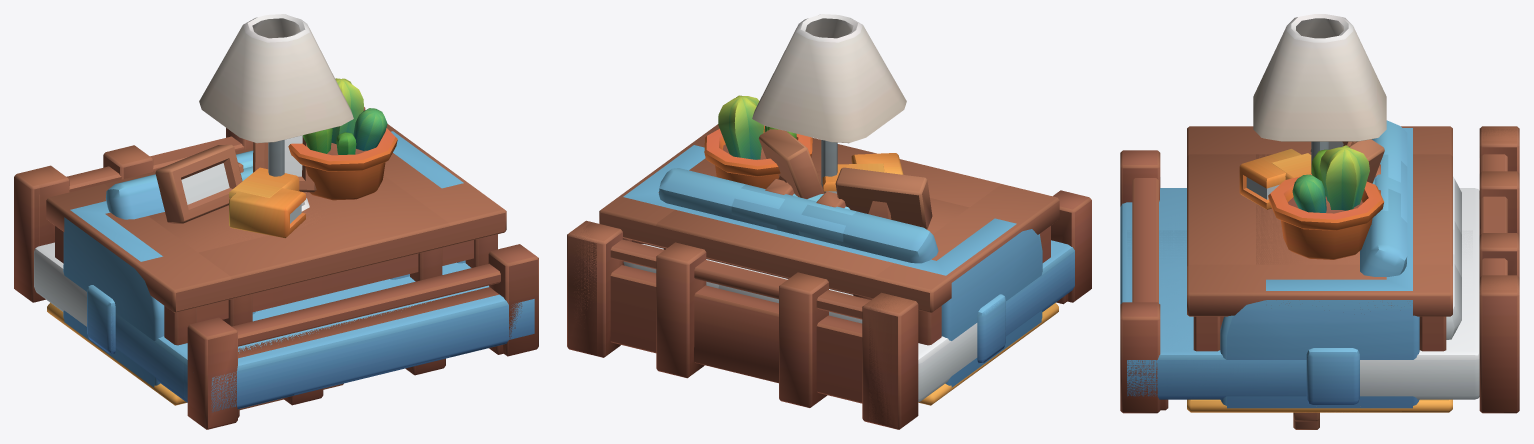
File: furn.glb
The picture shows the model from 3 angles, left to right: view 1: azimuth 30°, elevation 25°; view 2: azimuth 150°, elevation 25°; view 3: azimuth 270°, elevation 25°; orthographic projection. The views are drawn at different scales.
Visible parts, largest first — view 1: bed_double_B, table_medium_long, bed_double_A, lamp_standing, cabinet_medium_decorated, table_medium, couch, bed_single_A, cabinet_small_decorated, cabinet_medium, rug_rectangle_A; view 2: bed_double_B, bed_single_A, couch, table_medium_long, bed_double_A, lamp_standing, cabinet_medium_decorated, table_medium, cabinet_small_decorated, armchair, cabinet_medium, rug_rectangle_A (+1 smaller); view 3: bed_double_A, bed_double_B, couch, table_medium_long, lamp_standing, table_medium, cabinet_medium_decorated, bed_single_A, cabinet_small_decorated, cabinet_medium, rug_rectangle_A, armchair.
Boxes of the visible parts, bbox=[...] form: bed_double_B: bbox=[14, 107, 538, 429]; table_medium_long: bbox=[46, 124, 506, 345]; bed_double_A: bbox=[37, 144, 534, 417]; lamp_standing: bbox=[199, 14, 353, 176]; cabinet_medium_decorated: bbox=[155, 78, 397, 223]; table_medium: bbox=[105, 147, 449, 326]; couch: bbox=[63, 131, 465, 387]; bed_single_A: bbox=[103, 128, 450, 405]; cabinet_small_decorated: bbox=[229, 135, 316, 238]; cabinet_medium: bbox=[148, 192, 331, 252]; rug_rectangle_A: bbox=[47, 302, 186, 405]; bed_double_B: bbox=[567, 190, 1091, 429]; bed_single_A: bbox=[656, 242, 828, 407]; couch: bbox=[623, 145, 1042, 387]; table_medium_long: bbox=[599, 124, 1059, 345]; bed_double_A: bbox=[573, 222, 1074, 426]; lamp_standing: bbox=[752, 14, 906, 192]; cabinet_medium_decorated: bbox=[704, 95, 932, 229]; table_medium: bbox=[656, 137, 1000, 299]; cabinet_small_decorated: bbox=[758, 129, 903, 198]; armchair: bbox=[731, 184, 856, 241]; cabinet_medium: bbox=[816, 170, 969, 234]; rug_rectangle_A: bbox=[918, 302, 1058, 405]; bed_double_A: bbox=[1120, 129, 1519, 410]; bed_double_B: bbox=[1120, 126, 1519, 413]; couch: bbox=[1220, 120, 1419, 408]; table_medium_long: bbox=[1187, 126, 1452, 351]; lamp_standing: bbox=[1253, 14, 1386, 173]; table_medium: bbox=[1187, 154, 1452, 266]; cabinet_medium_decorated: bbox=[1268, 141, 1383, 259]; bed_single_A: bbox=[1121, 171, 1519, 302]; cabinet_small_decorated: bbox=[1239, 139, 1384, 209]; cabinet_medium: bbox=[1256, 154, 1359, 264]; rug_rectangle_A: bbox=[1187, 399, 1452, 412]; armchair: bbox=[1374, 154, 1407, 222].
Bounding box in the file's own units: 3.1 × 3.12 × 3.
Materials: 1 (1 with a texture image).
